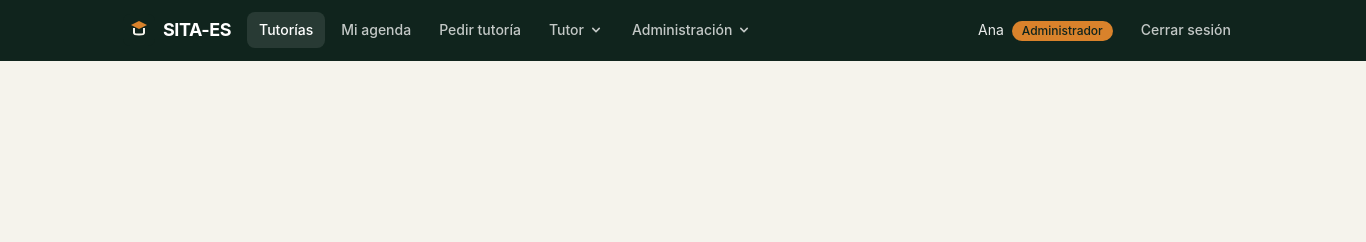
Scenario: menú del administrador (superusuario) › agrupa el panel del tutor y la administración en desplegables
The width and height of the screenshot is (1366, 242).
Expected: the link "Mi agenda" is shown, [341, 21, 411, 38]
Expected: the link "Mis tutorías" is not shown
Click the button "Tutor" at coordinates (576, 30), box [537, 12, 616, 48]
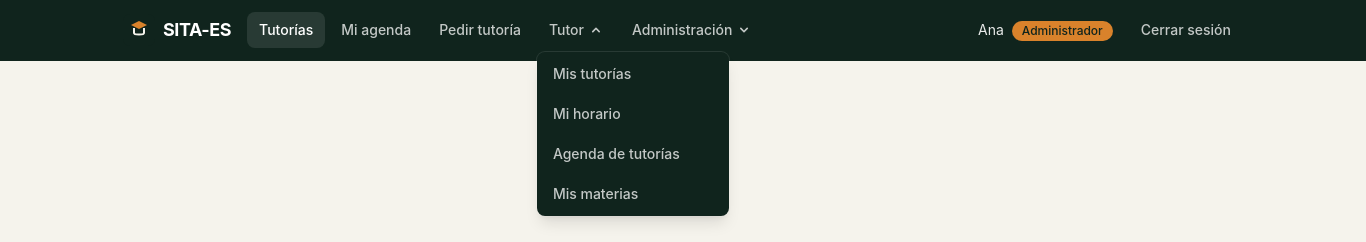
Expected: the button "Tutor" is expanded, [537, 12, 616, 48]
Expected: the link "Mis tutorías" is shown, [553, 65, 631, 82]
Note: Abrir el otro cierra el primero (clic afuera)
Press the mouse on the button "Administración" at coordinates (692, 30), box [620, 12, 764, 48]
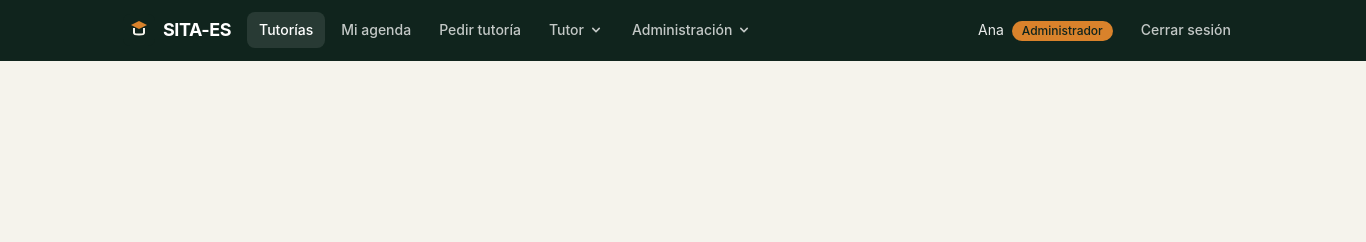
Click the button "Administración" at coordinates (692, 30), box [620, 12, 764, 48]
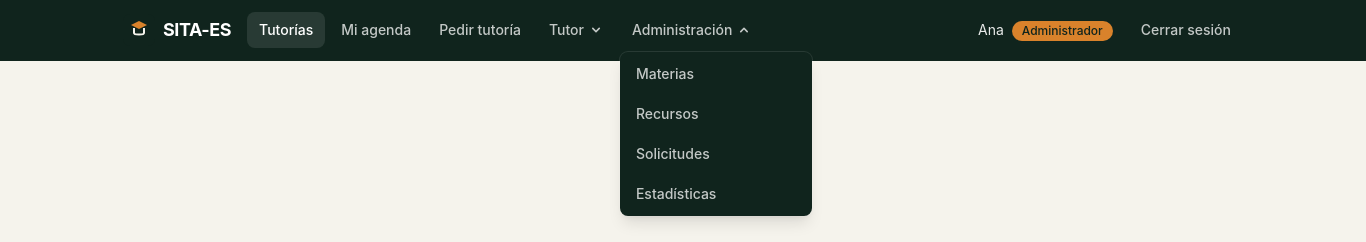
Expected: the button "Tutor" is collapsed, [537, 12, 616, 48]
Expected: the link "Estadísticas" is shown, [636, 185, 716, 202]
Press Escape
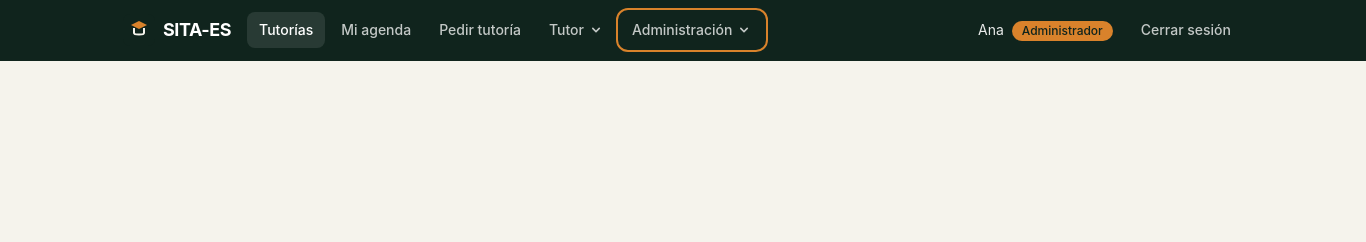
Expected: the button "Administración" is collapsed, [620, 12, 764, 48]
